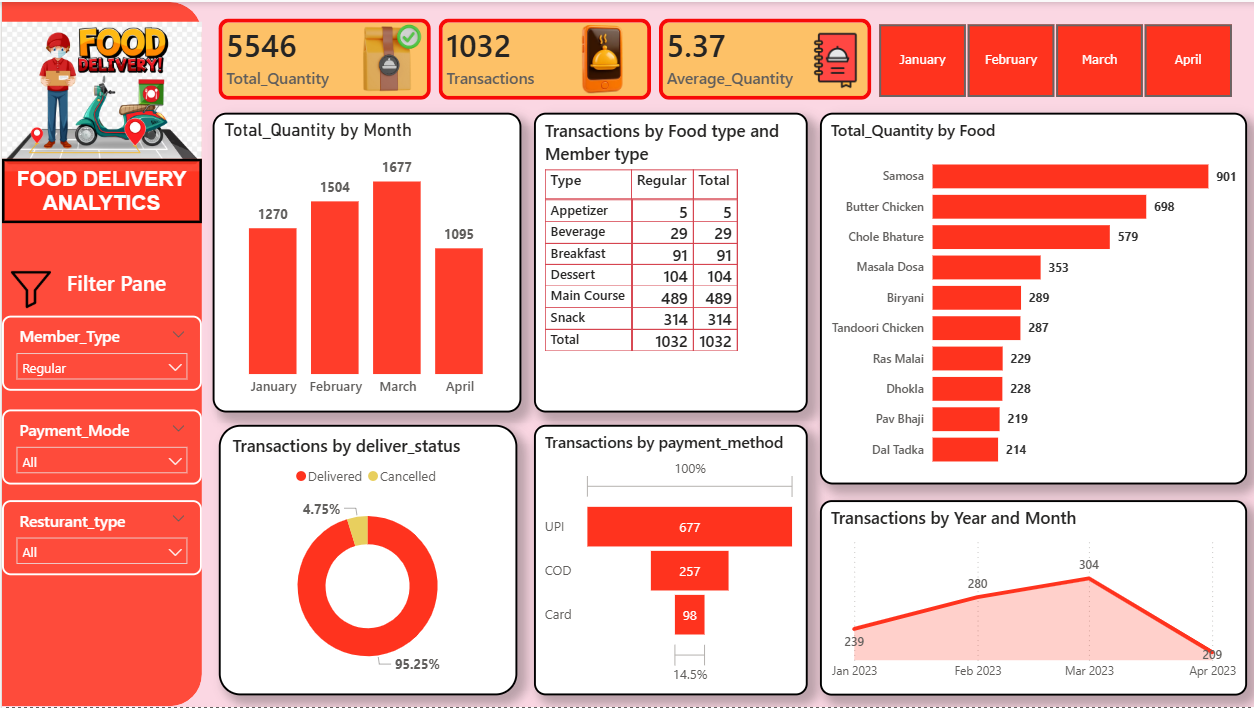

This screenshot's page, from the dashboard's own definition file:
{"tool":"powerbi","page":{"name":"Page 1","canvas":[1280,720],"ordinal":0},"visuals":[{"type":"shape","box":[0,0,204.2,719.5],"z":0},{"type":"image","box":[0,0,204.2,193.2],"z":1000},{"type":"textbox","box":[0,160.2,204.2,66],"z":2000},{"type":"cardVisual","fields":{"Data":["Sales Data.Total_Quantity","Sales Data.Transactions","Sales Data.Average_Quantity"]},"box":[204.2,0,702.2,117.8],"z":3000},{"type":"clusteredColumnChart","fields":{"Category":["Sales Data.orderDate.Variation.Date Hierarchy.Month"],"Y":["Sales Data.Total_Quantity"]},"box":[215.2,113.1,315.7,306.3],"z":4000},{"type":"image","box":[820,22,62.8,75.4],"z":5000},{"type":"pivotTable","title":"Transactions by Food type and Member type","fields":{"Rows":["Food_Details.Type"],"Columns":["Customer Details.member_Type"],"Values":["Sales Data.Transactions"]},"box":[543.5,113.1,279.6,306.3],"z":6000},{"type":"donutChart","fields":{"Category":["Sales Data.deliver_status"],"Y":["Sales Data.Transactions"]},"box":[221.5,432,304.8,276.5],"z":7000},{"type":"funnel","fields":{"Category":["Sales Data.payment_method"],"Y":["Sales Data.Transactions"]},"box":[543.5,432,279.6,276.5],"z":8000},{"type":"clusteredBarChart","fields":{"Y":["Sales Data.Total_Quantity"],"Category":["Food_Details.Food"]},"box":[835.7,113.1,436.7,380.2],"z":9000},{"type":"lineChart","fields":{"Y":["Sales Data.Transactions"],"Category":["Sales Data.orderDate.Variation.Date Hierarchy.Year","Sales Data.orderDate.Variation.Date Hierarchy.Month"]},"box":[835.7,509,436.7,199.5],"z":10000},{"type":"slicer","fields":{"Values":["Customer Details.member_Type"]},"box":[0,320.5,204.2,77],"z":11000},{"type":"slicer","fields":{"Values":["Sales Data.payment_method"]},"box":[0,416.3,204.2,77],"z":12000},{"type":"slicer","fields":{"Values":["Resturant_Details.Resturant_type"]},"box":[0,509,204.2,77],"z":13000},{"type":"slicer","fields":{"Values":["Sales Data.orderDate.Variation.Date Hierarchy.Month"]},"box":[870.3,15.7,410,88],"z":14000},{"type":"image","box":[556.1,15.7,119.4,84.8],"z":15000},{"type":"image","box":[350.3,22,91.1,70.7],"z":16000},{"type":"textbox","box":[61.3,267.1,121,53.4],"z":17000},{"type":"image","box":[0,273.3,59.7,40.8],"z":18000}]}

Visuals, with their boxes in screenshot pixels (x1, y1, x2, y2), scaled from the page's 1280x720 canvas onto the 1254x708 screenshot:
shape: <bbox>0, 0, 200, 707</bbox>
image: <bbox>0, 0, 200, 190</bbox>
textbox: <bbox>0, 158, 200, 222</bbox>
cardVisual - Sales Data.Total_Quantity x Sales Data.Transactions: <bbox>200, 0, 888, 116</bbox>
clusteredColumnChart - Sales Data.orderDate.Variation.Date Hierarchy.Month x Sales Data.Total_Quantity: <bbox>211, 111, 520, 412</bbox>
image: <bbox>803, 22, 865, 96</bbox>
"Transactions by Food type and Member type" pivotTable: <bbox>532, 111, 806, 412</bbox>
donutChart - Sales Data.deliver_status x Sales Data.Transactions: <bbox>217, 425, 516, 697</bbox>
funnel - Sales Data.payment_method x Sales Data.Transactions: <bbox>532, 425, 806, 697</bbox>
clusteredBarChart - Sales Data.Total_Quantity x Food_Details.Food: <bbox>819, 111, 1247, 485</bbox>
lineChart - Sales Data.Transactions x Sales Data.orderDate.Variation.Date Hierarchy.Year: <bbox>819, 501, 1247, 697</bbox>
slicer - Customer Details.member_Type: <bbox>0, 315, 200, 391</bbox>
slicer - Sales Data.payment_method: <bbox>0, 409, 200, 485</bbox>
slicer - Resturant_Details.Resturant_type: <bbox>0, 501, 200, 576</bbox>
slicer - Sales Data.orderDate.Variation.Date Hierarchy.Month: <bbox>853, 15, 1253, 102</bbox>
image: <bbox>545, 15, 662, 99</bbox>
image: <bbox>343, 22, 432, 91</bbox>
textbox: <bbox>60, 263, 179, 315</bbox>
image: <bbox>0, 269, 58, 309</bbox>
